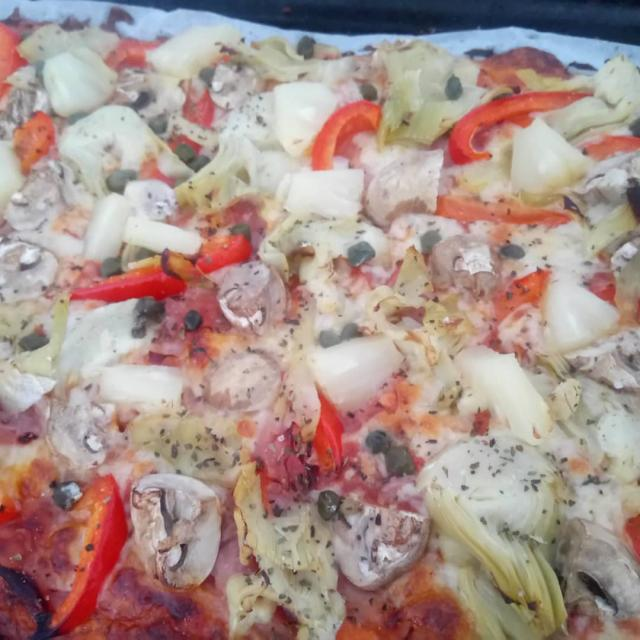mushrooms: (125, 470, 221, 586), (560, 518, 640, 613), (338, 498, 426, 570), (374, 152, 450, 213), (429, 232, 506, 288), (45, 394, 108, 462), (574, 338, 640, 389), (215, 289, 275, 342), (578, 164, 640, 214), (4, 82, 57, 138), (224, 262, 260, 327)
peppers: (68, 236, 250, 306), (442, 86, 588, 167), (54, 476, 130, 626), (313, 93, 383, 170), (446, 191, 562, 228), (165, 85, 210, 168), (312, 391, 348, 462)
pizza: (0, 6, 640, 640)
